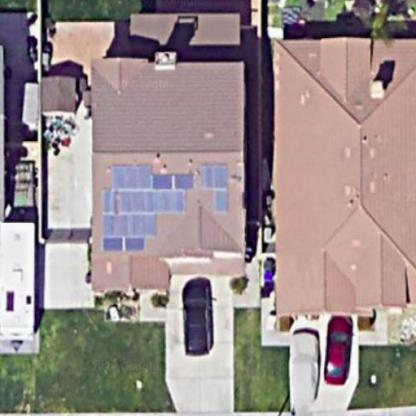car: (316, 309, 362, 390), (178, 273, 219, 359)
solar_panel: (91, 155, 242, 254)
